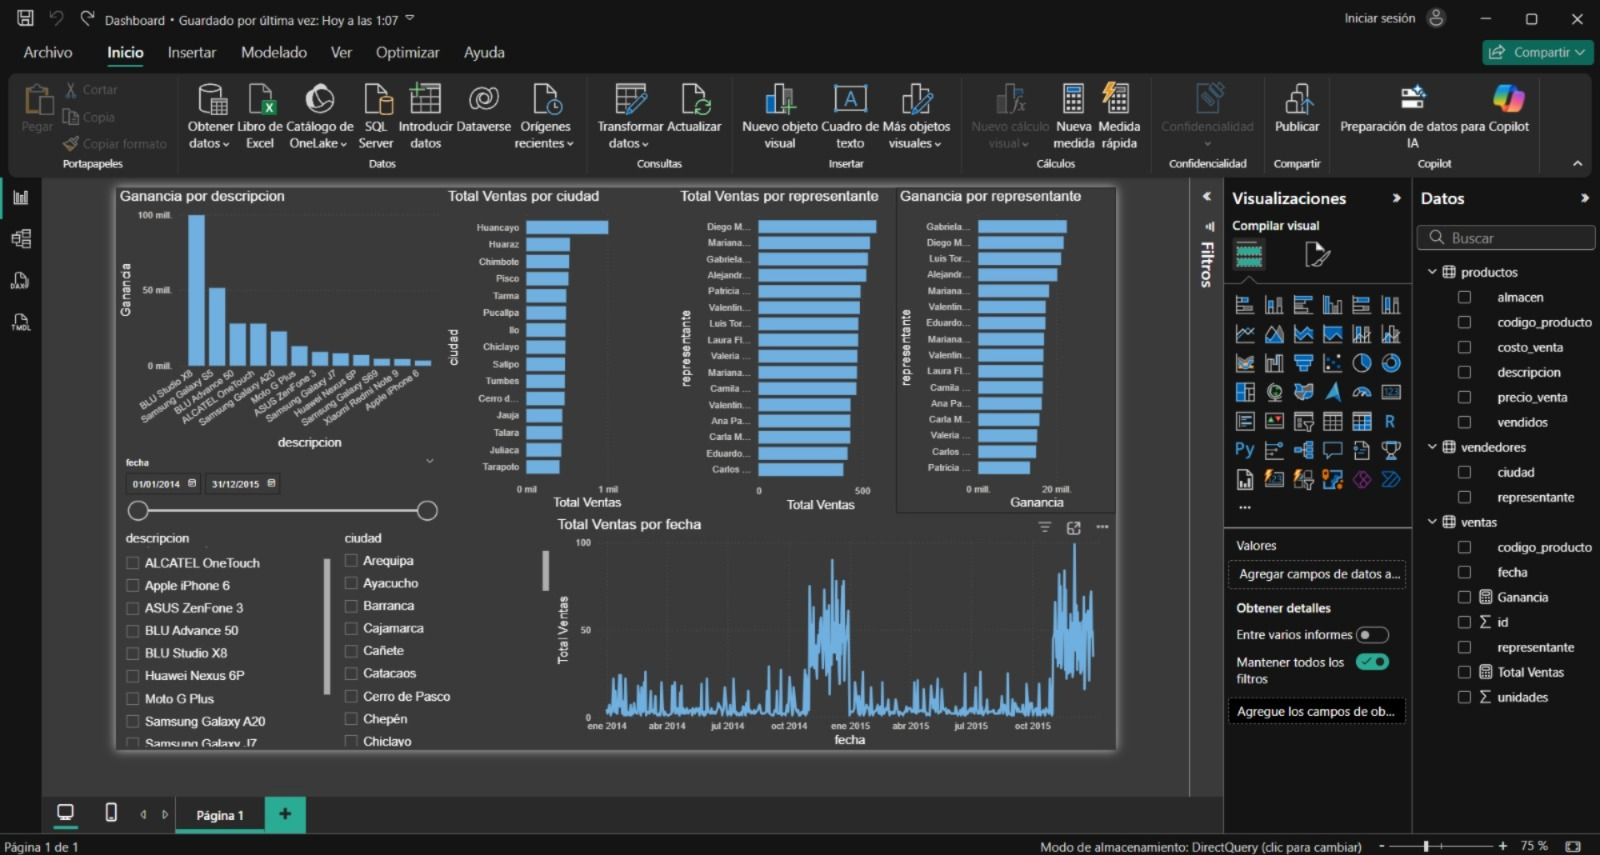

This screenshot's page, from the dashboard's own definition file:
{"tool":"powerbi","page":{"name":"Página 1","canvas":[1280,720],"ordinal":0},"visuals":[{"type":"barChart","fields":{"Y":["ventas.Total Ventas"],"Category":["vendedores.ciudad"]},"box":[419.6,0,279.8,417.2],"z":0},{"type":"columnChart","fields":{"Category":["productos.descripcion"],"Y":["ventas.Ganancia"]},"box":[0,0,419.6,339.9],"z":1000},{"type":"lineChart","fields":{"Category":["ventas.fecha"],"Y":["ventas.Total Ventas"]},"box":[559.5,419.6,720.2,300.6],"z":2000},{"type":"barChart","fields":{"Category":["vendedores.representante"],"Y":["ventas.Total Ventas"]},"box":[717.8,0,281,419.6],"z":2001},{"type":"slicer","fields":{"Values":["vendedores.ciudad"]},"box":[279.8,434.4,279.8,285.9],"z":2002},{"type":"slicer","fields":{"Values":["productos.descripcion"]},"box":[0,434.4,279.8,285.9],"z":2003},{"type":"slicer","fields":{"Values":["ventas.fecha"]},"box":[0,339.9,419.6,94.5],"z":2004},{"type":"barChart","fields":{"Category":["vendedores.representante"],"Y":["ventas.Ganancia"]},"box":[998.8,0,281,417.2],"z":2005}]}

Visuals, with their boxes on the page's 1280x720 design canvas (x1, y1, x2, y2). These are canvas units, not pixel positions in the 1600x855 screenshot, which may show the page scaled, cropped or inside an application window:
barChart - ventas.Total Ventas x vendedores.ciudad: {"left": 420, "top": 0, "right": 699, "bottom": 417}
columnChart - productos.descripcion x ventas.Ganancia: {"left": 0, "top": 0, "right": 420, "bottom": 340}
lineChart - ventas.fecha x ventas.Total Ventas: {"left": 560, "top": 420, "right": 1280, "bottom": 720}
barChart - vendedores.representante x ventas.Total Ventas: {"left": 718, "top": 0, "right": 999, "bottom": 420}
slicer - vendedores.ciudad: {"left": 280, "top": 434, "right": 560, "bottom": 720}
slicer - productos.descripcion: {"left": 0, "top": 434, "right": 280, "bottom": 720}
slicer - ventas.fecha: {"left": 0, "top": 340, "right": 420, "bottom": 434}
barChart - vendedores.representante x ventas.Ganancia: {"left": 999, "top": 0, "right": 1280, "bottom": 417}
